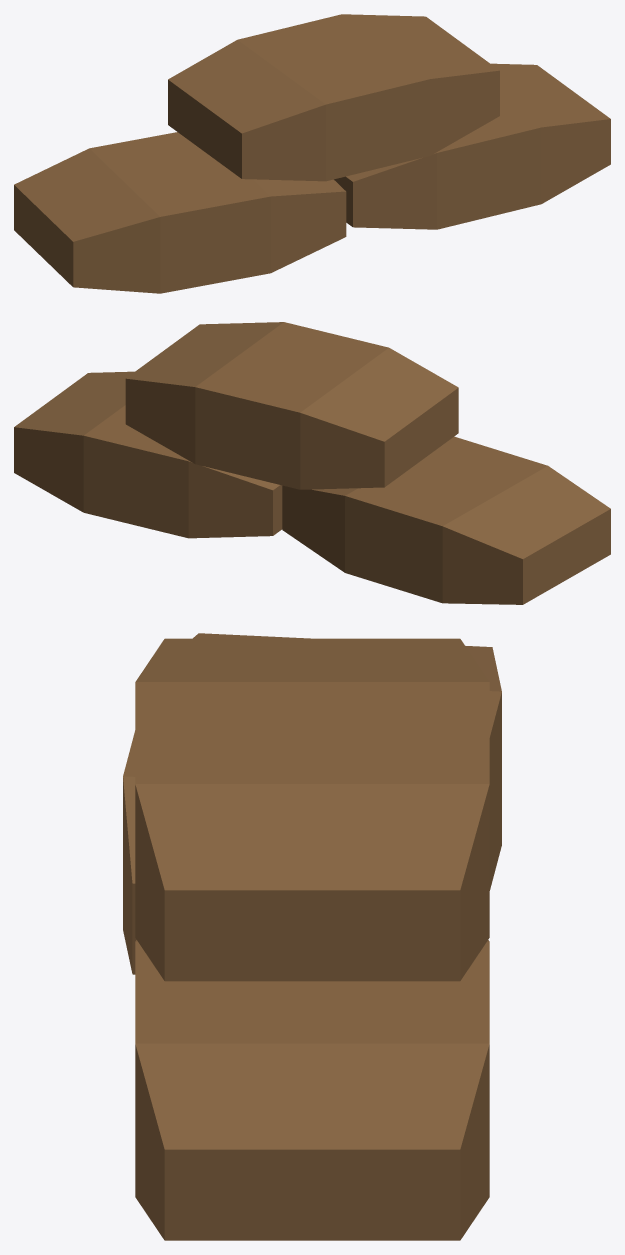
Rendered from LPWarPack_TrenchSandBags1.fbx.
The picture shows the model from 3 angles, top to bottom: view 1: azimuth 30°, elevation 25°; view 2: azimuth 150°, elevation 25°; view 3: azimuth 270°, elevation 25°; orthographic projection. The views are drawn at different scales.
Visible parts, largest first — view 1: TrenchSandBags1; view 2: TrenchSandBags1; view 3: TrenchSandBags1.
Part boxes in pixels (bbox=[...]): TrenchSandBags1: bbox=[14, 14, 610, 293]; TrenchSandBags1: bbox=[14, 322, 610, 604]; TrenchSandBags1: bbox=[123, 633, 501, 1240].
Size of the model in its own units: 89.5 by 24.61 by 27.75.
